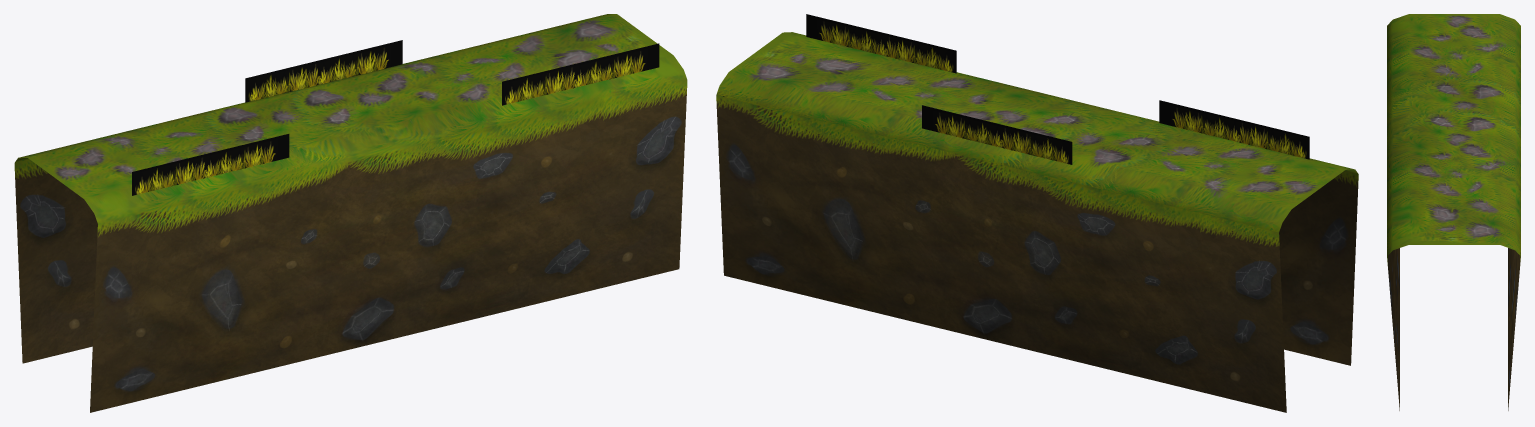
The model's file is platform_onder (1).fbx.
The picture shows the model from 3 angles, left to right: view 1: azimuth 30°, elevation 25°; view 2: azimuth 150°, elevation 25°; view 3: azimuth 270°, elevation 25°; orthographic projection. The views are drawn at different scales.
Visible parts, largest first — view 1: Plane_1; view 2: Plane_1; view 3: Plane_1.
Part boxes in pixels (bbox=[...]): Plane_1: bbox=[14, 14, 687, 412]; Plane_1: bbox=[716, 14, 1358, 412]; Plane_1: bbox=[1387, 14, 1520, 410].
Size of the model in its own units: 2098 by 782 by 514.
Materials: 1 (1 with a texture image).
